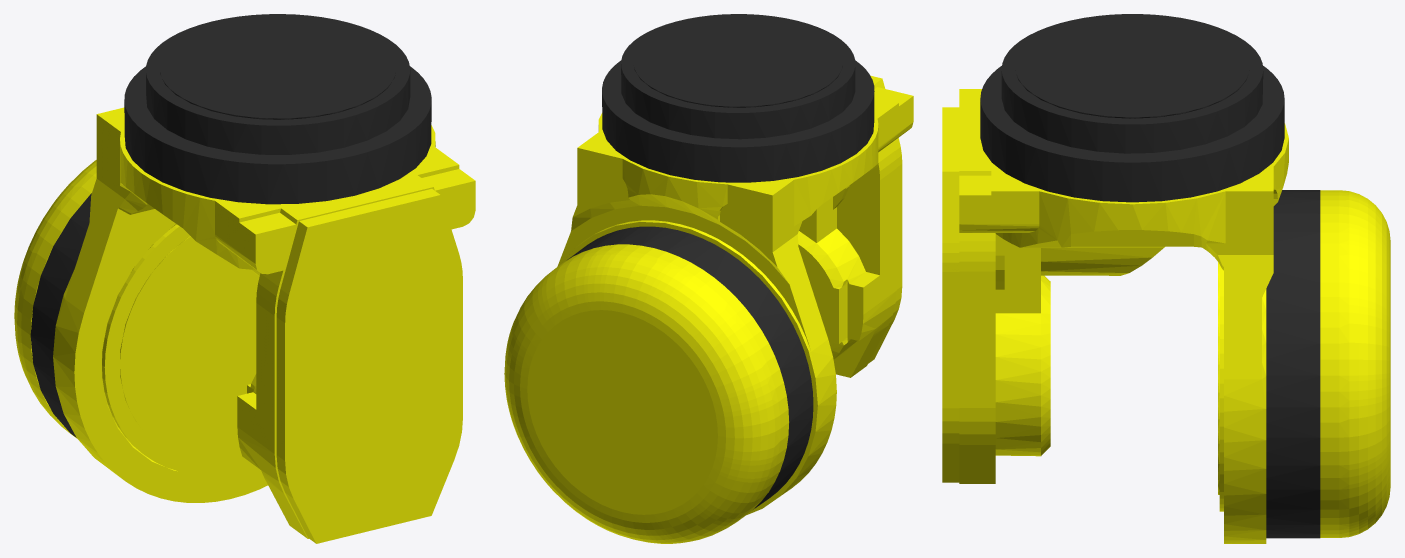
3 views of the same model, side by side, from view 1: azimuth 30°, elevation 25°; view 2: azimuth 150°, elevation 25°; view 3: azimuth 270°, elevation 25° (orthographic). The views are drawn at different scales.
Parts seen in each view (by area): view 1: node; view 2: node; view 3: node.
Part boxes in pixels (<box>): node: <box>14,14,475,543</box>; node: <box>504,14,913,543</box>; node: <box>942,14,1390,543</box>.
Size of the model in its own units: 246 by 346 by 306.
